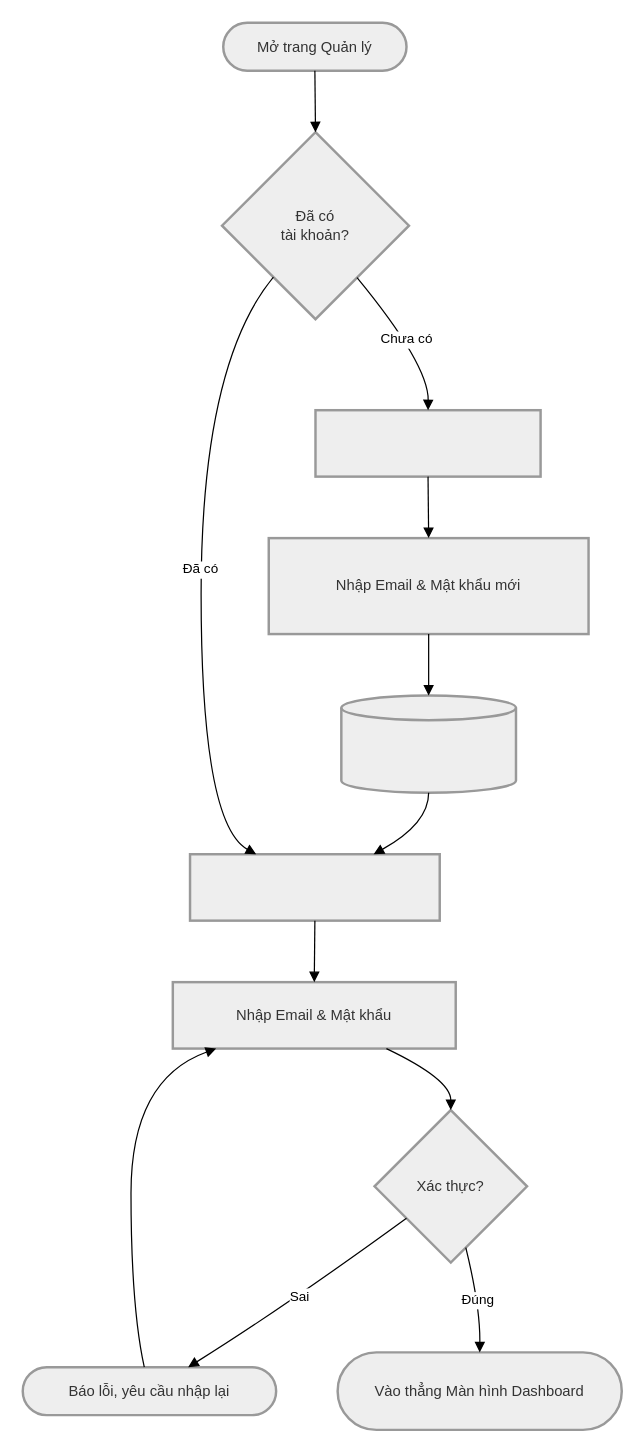
The diagram is 643 pixels wide and 1451 high, and some of its shapes have lost their labels. The shapes that lost their labels are listed below. From the top down, each one's centre as x and y in pixels, then its label:
At point (427, 442): "Mở Form Đăng ký".
At point (428, 743): "Lưu vào Database".
At point (314, 886): "Mở Form Đăng nhập".
